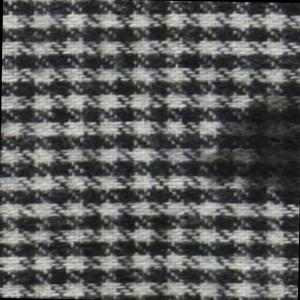Stain: (211, 73, 300, 212)
